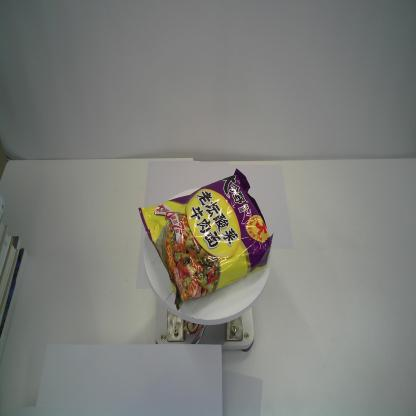Instant Noodles: (138, 166, 276, 312)
